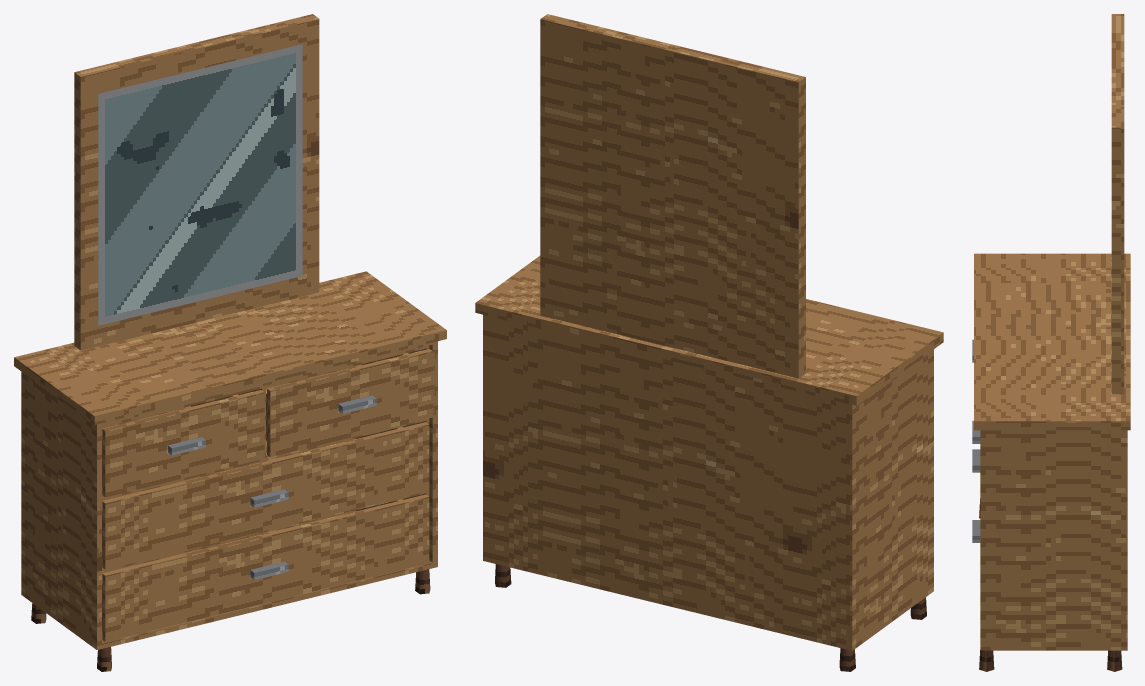
The model's file is RES_Dresser_Mirror.obj.
3 renders of one model, left to right at view 1: azimuth 30°, elevation 25°; view 2: azimuth 150°, elevation 25°; view 3: azimuth 270°, elevation 25°, orthographic. The views are drawn at different scales.
Visible parts, largest first — view 1: RES_Dresser_Mirror_Mesh_M_Furn_WoodLight, RES_Dresser_Mirror_Mesh_M_Res_Mirror, INT_Drawer_2_M_Furn_WoodLight, INT_Drawer_1_M_Furn_WoodLight, INT_Drawer_3R_M_Furn_WoodLight, INT_Drawer_3L_M_Furn_WoodLight, RES_Dresser_Mirror_Mesh_M_Furn_WoodDark; view 2: RES_Dresser_Mirror_Mesh_M_Furn_WoodLight, RES_Dresser_Mirror_Mesh_M_Furn_WoodDark; view 3: RES_Dresser_Mirror_Mesh_M_Furn_WoodLight, RES_Dresser_Mirror_Mesh_M_Furn_WoodDark.
Boxes of the visible parts, x1,y1,x2,y2 form: RES_Dresser_Mirror_Mesh_M_Furn_WoodLight: (14,14,446,649); RES_Dresser_Mirror_Mesh_M_Res_Mirror: (98,44,302,325); INT_Drawer_2_M_Furn_WoodLight: (102,422,429,569); INT_Drawer_1_M_Furn_WoodLight: (102,494,429,641); INT_Drawer_3R_M_Furn_WoodLight: (238,349,434,457); INT_Drawer_3L_M_Furn_WoodLight: (102,390,264,497); RES_Dresser_Mirror_Mesh_M_Furn_WoodDark: (31,569,430,671); RES_Dresser_Mirror_Mesh_M_Furn_WoodLight: (475,14,943,650); RES_Dresser_Mirror_Mesh_M_Furn_WoodDark: (495,564,926,671); RES_Dresser_Mirror_Mesh_M_Furn_WoodLight: (974,14,1130,650); RES_Dresser_Mirror_Mesh_M_Furn_WoodDark: (979,498,1122,671).
Bounding box in the file's own units: 1.24 × 1.8 × 0.495.
4 materials, 4 textured.
